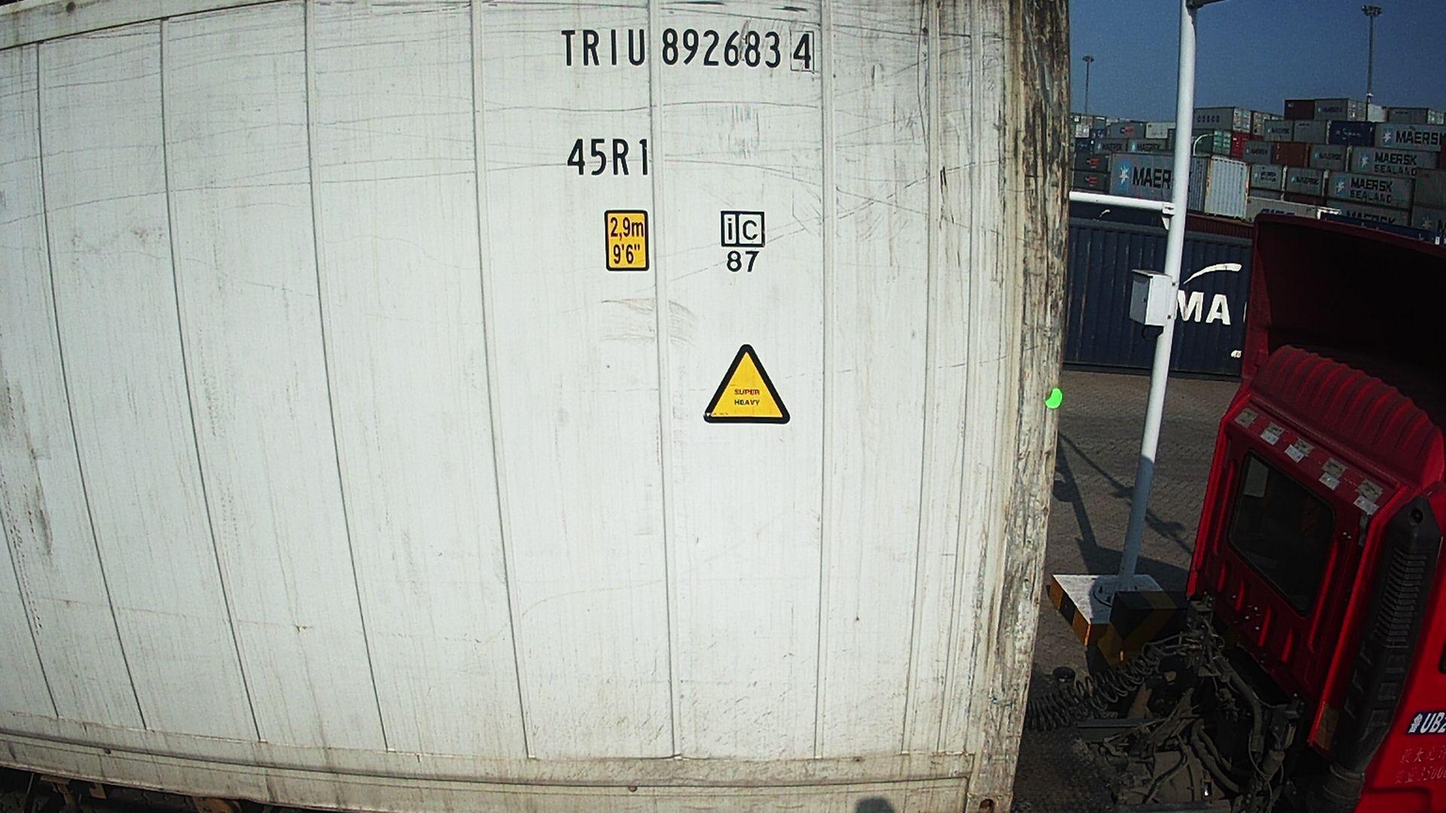container-numbers: (555, 21, 828, 73), (562, 132, 656, 182)
